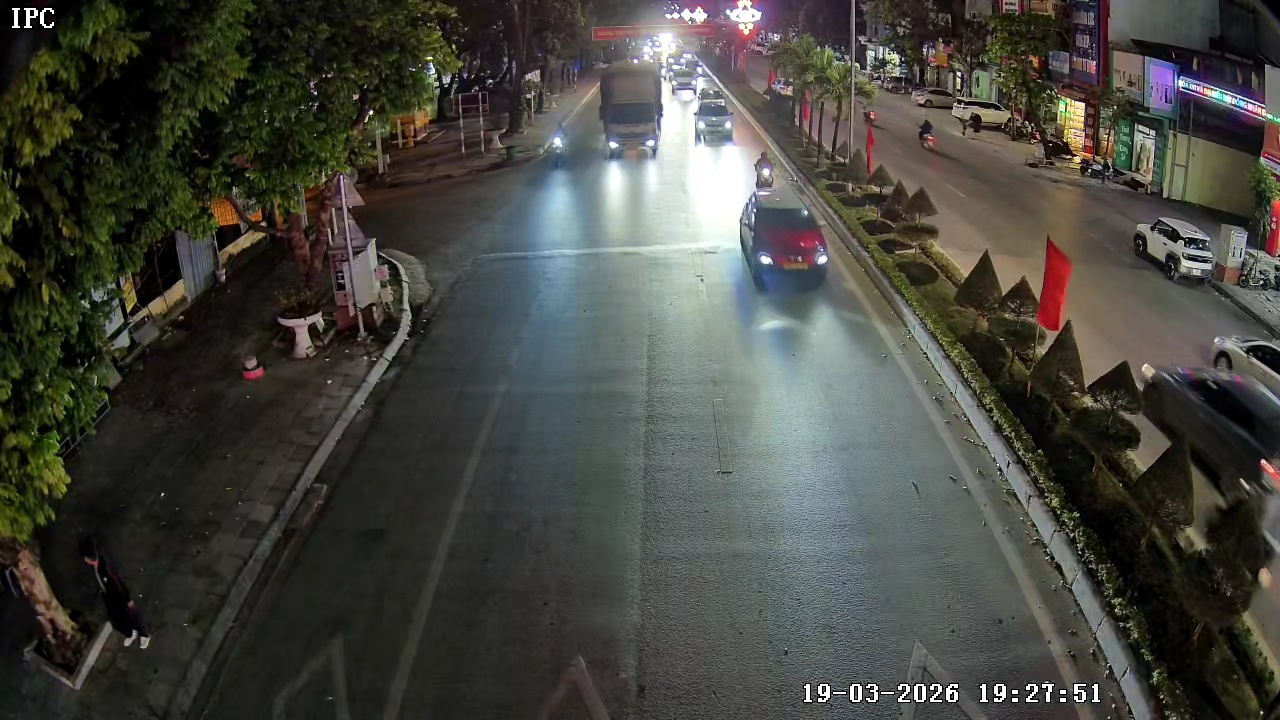car: (736, 184, 830, 288), (694, 99, 741, 145)
motorbike: (553, 123, 574, 168), (753, 150, 773, 192)
truck: (594, 54, 668, 165)
